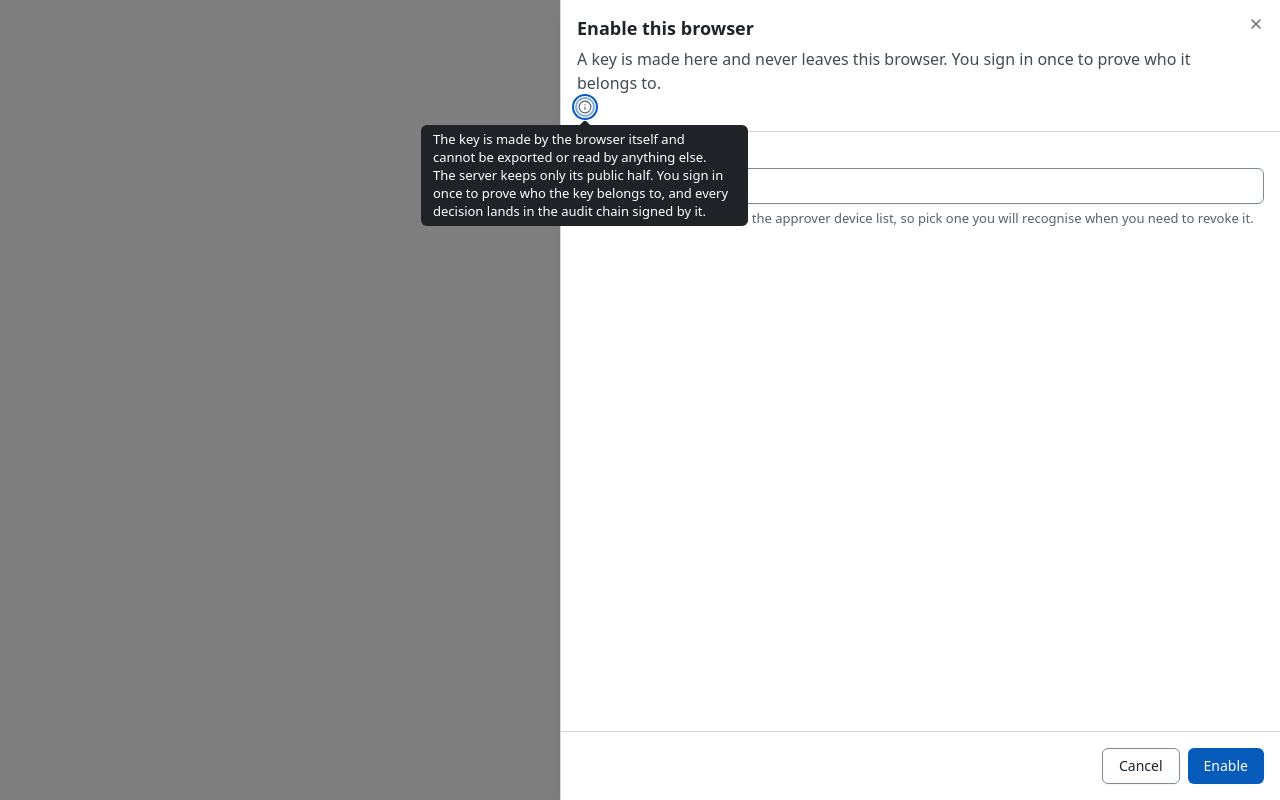
the Enable this browser sheet › quotes the server when the enrolment is refused
Click the button "Enable".
click(1226, 766)  # box 1188,748 -> 1264,784
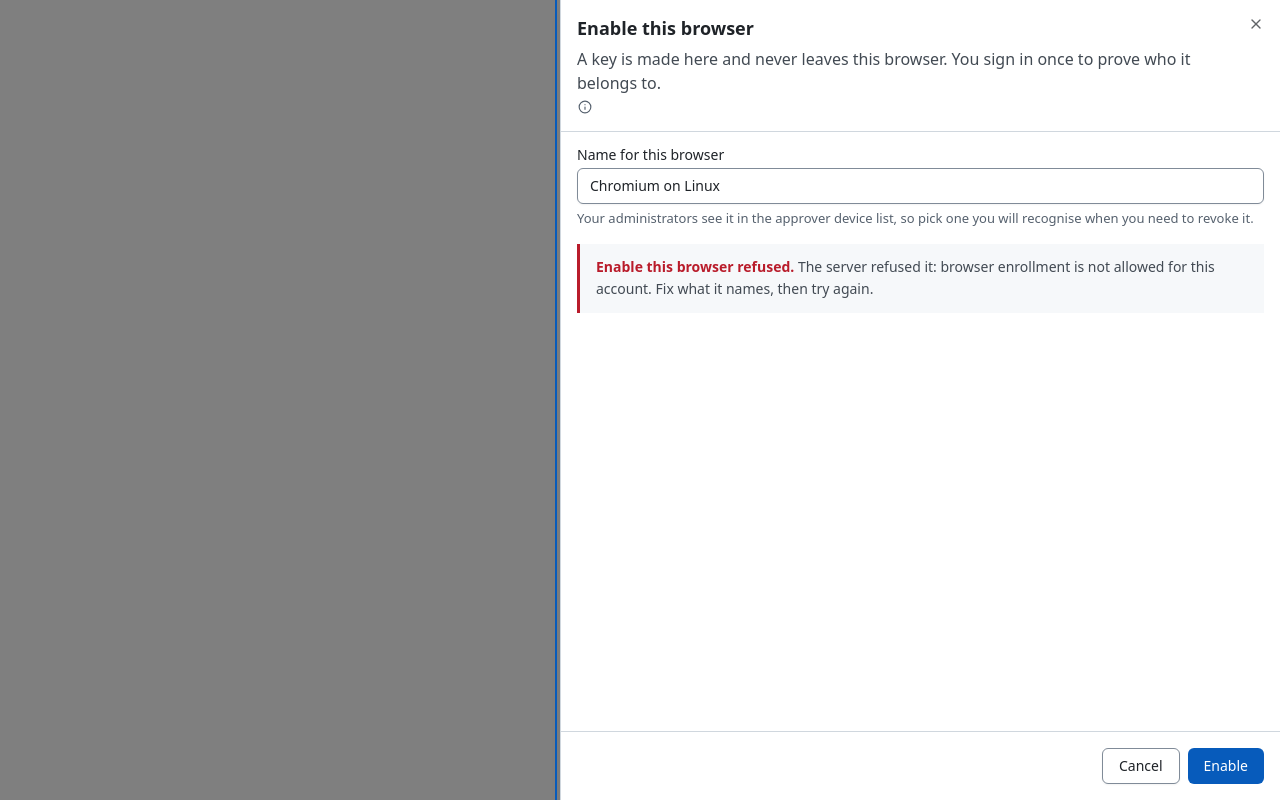
Result: the text "browser enrollment is not allowed for this account" is shown at 596,257 -> 1215,298
